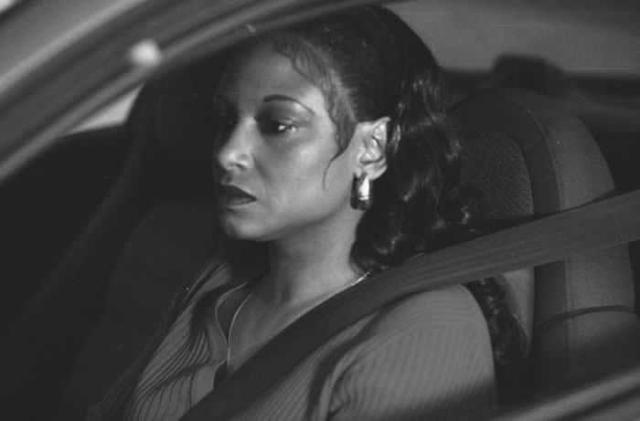SafeDriving: (260, 106, 306, 142)
Seatbelt: (175, 185, 640, 421)
